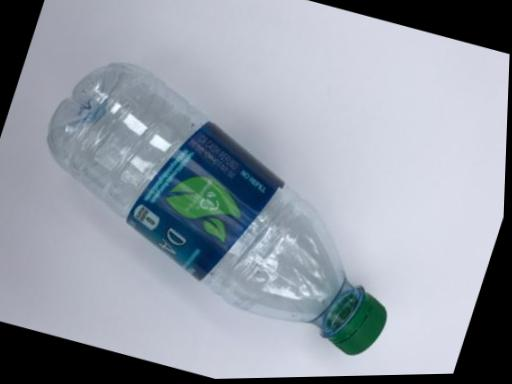plastic: (0, 0, 421, 377)
